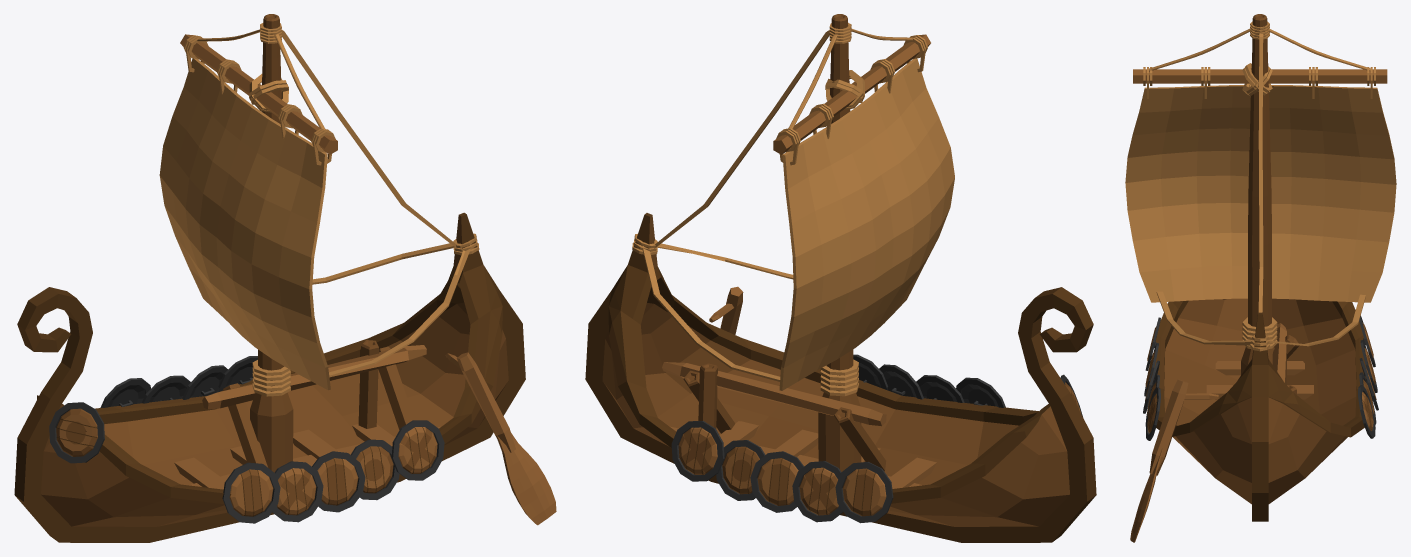
The model's file is D_Knarr_Wood.fbx.
3 renders of one model, left to right at view 1: azimuth 30°, elevation 25°; view 2: azimuth 150°, elevation 25°; view 3: azimuth 270°, elevation 25°, orthographic. The views are drawn at different scales.
Parts seen in each view (by area): view 1: D_Knarr_Wood, D_Knarr__Sail_Yellow, D_Knarr_B_Oar.004; view 2: D_Knarr_Wood, D_Knarr__Sail_Yellow, D_Knarr_B_Oar.004; view 3: D_Knarr__Sail_Yellow, D_Knarr_Wood, D_Knarr_B_Oar.004.
Boxes of the visible parts, x1,y1,x2,y2 form: D_Knarr_Wood: (14, 14, 525, 542); D_Knarr__Sail_Yellow: (159, 58, 330, 390); D_Knarr_B_Oar.004: (445, 352, 556, 525); D_Knarr_Wood: (585, 14, 1096, 542); D_Knarr__Sail_Yellow: (779, 58, 954, 390); D_Knarr_B_Oar.004: (709, 286, 743, 334); D_Knarr__Sail_Yellow: (1125, 85, 1396, 302); D_Knarr_Wood: (1133, 14, 1387, 521); D_Knarr_B_Oar.004: (1130, 379, 1218, 542).
Bounding box in the file's own units: 703 × 671 × 374.
